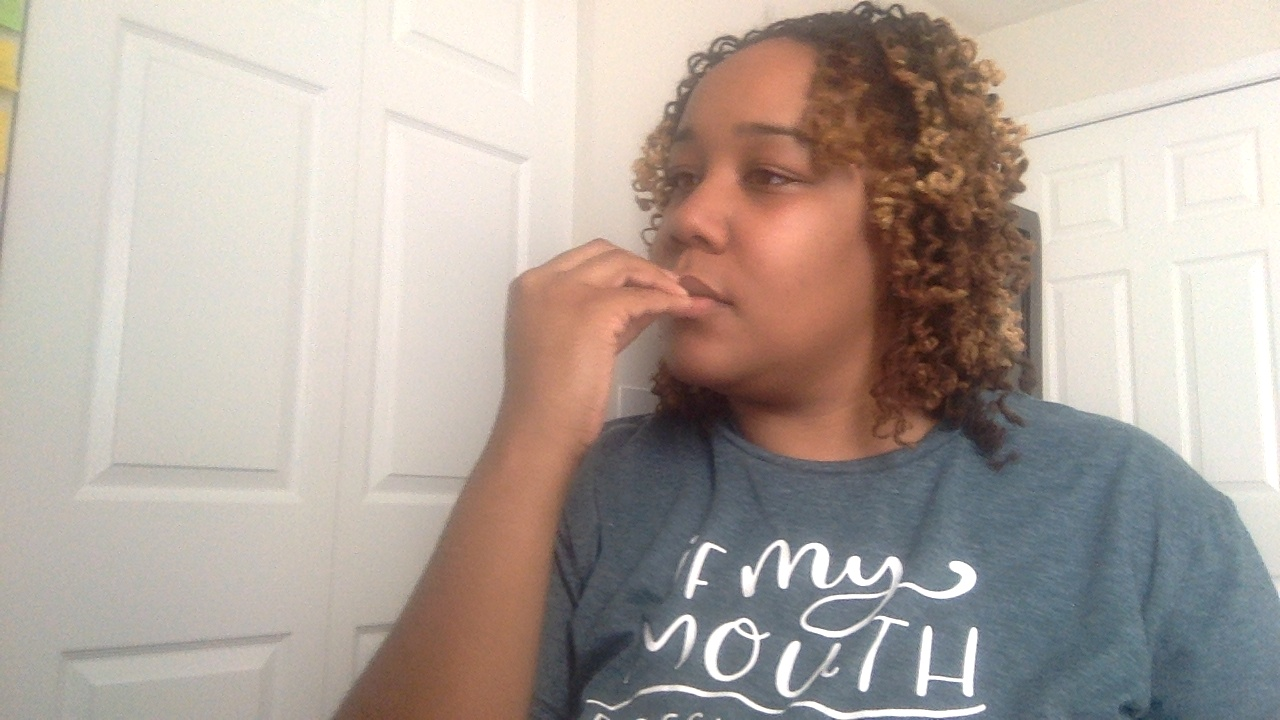eat: (419, 238, 883, 460)
